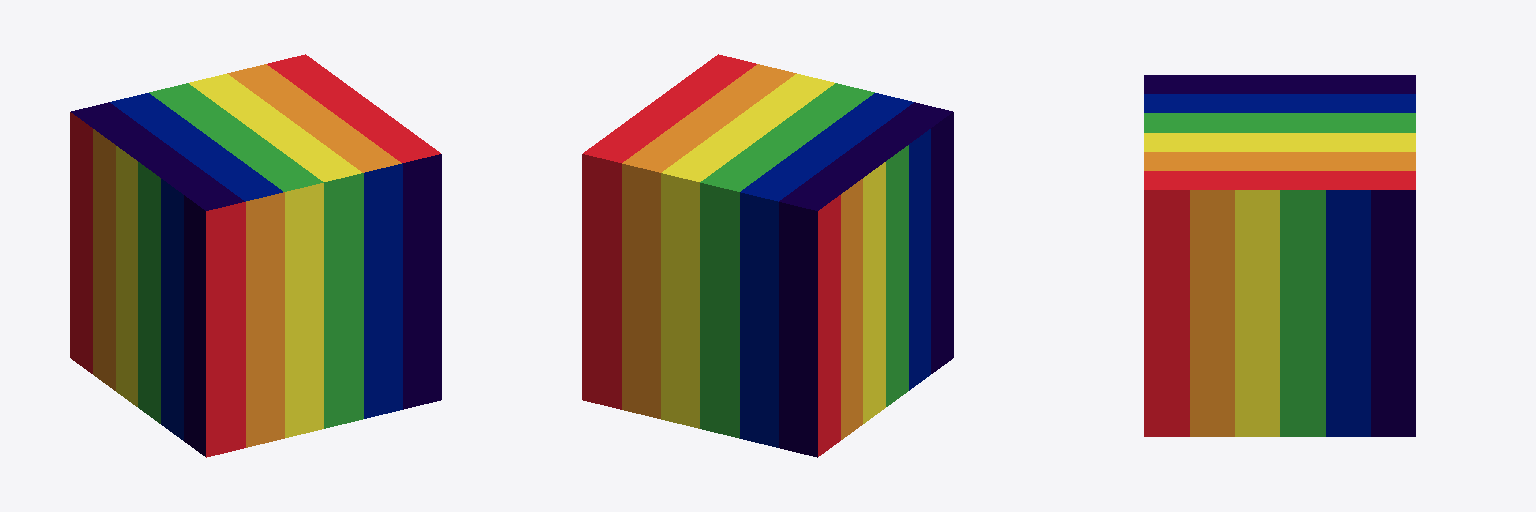
The picture shows the model from 3 angles: view 1: azimuth 30°, elevation 25°; view 2: azimuth 150°, elevation 25°; view 3: azimuth 270°, elevation 25°; orthographic projection.
Visible parts, largest first — view 1: OBJ_Probuilderized_Cube_2TrianglesIn1Face; view 2: OBJ_Probuilderized_Cube_2TrianglesIn1Face; view 3: OBJ_Probuilderized_Cube_2TrianglesIn1Face.
Part boxes in pixels (x1,y1,x2,y2): OBJ_Probuilderized_Cube_2TrianglesIn1Face: (70, 54, 441, 457); OBJ_Probuilderized_Cube_2TrianglesIn1Face: (582, 54, 953, 457); OBJ_Probuilderized_Cube_2TrianglesIn1Face: (1144, 75, 1415, 436).
Size of the model in its own units: 1 by 1 by 1.
Materials: 1 (1 with a texture image).